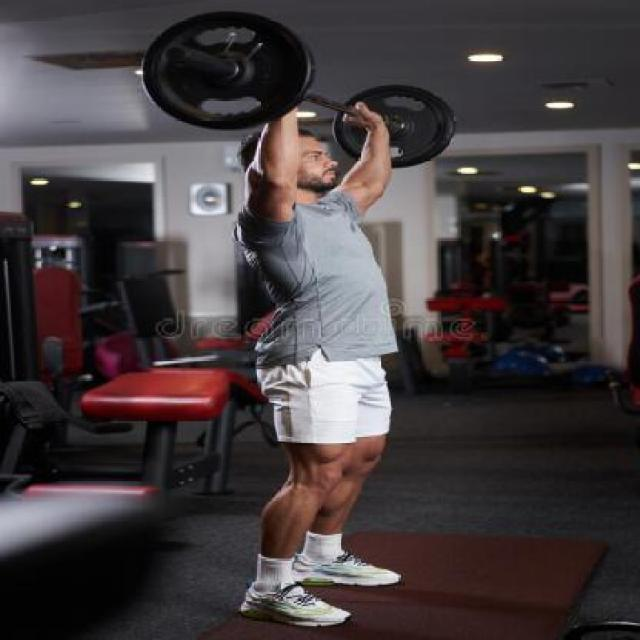Barbell: (156, 37, 202, 68)
